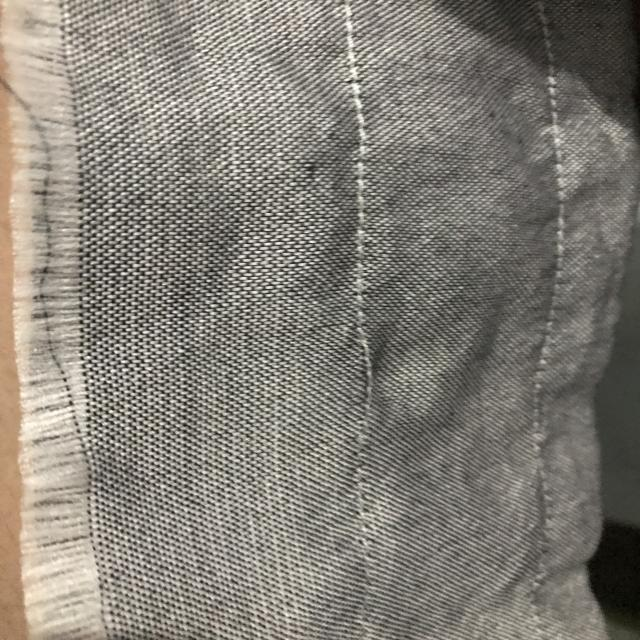good: (340, 180, 381, 284)
skip: (349, 322, 382, 426)
